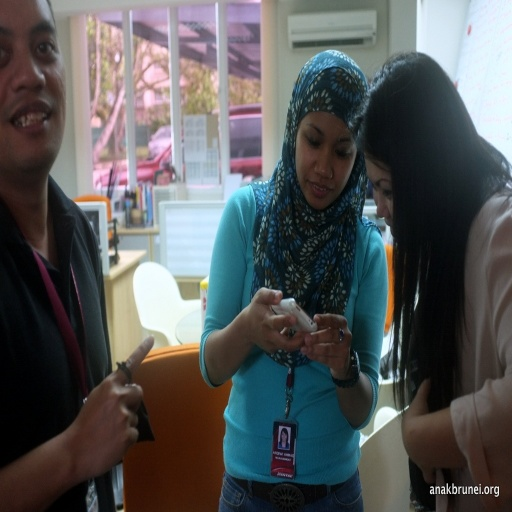hand: (64, 365, 154, 475), (246, 283, 309, 356), (302, 314, 352, 373), (402, 377, 432, 457)
